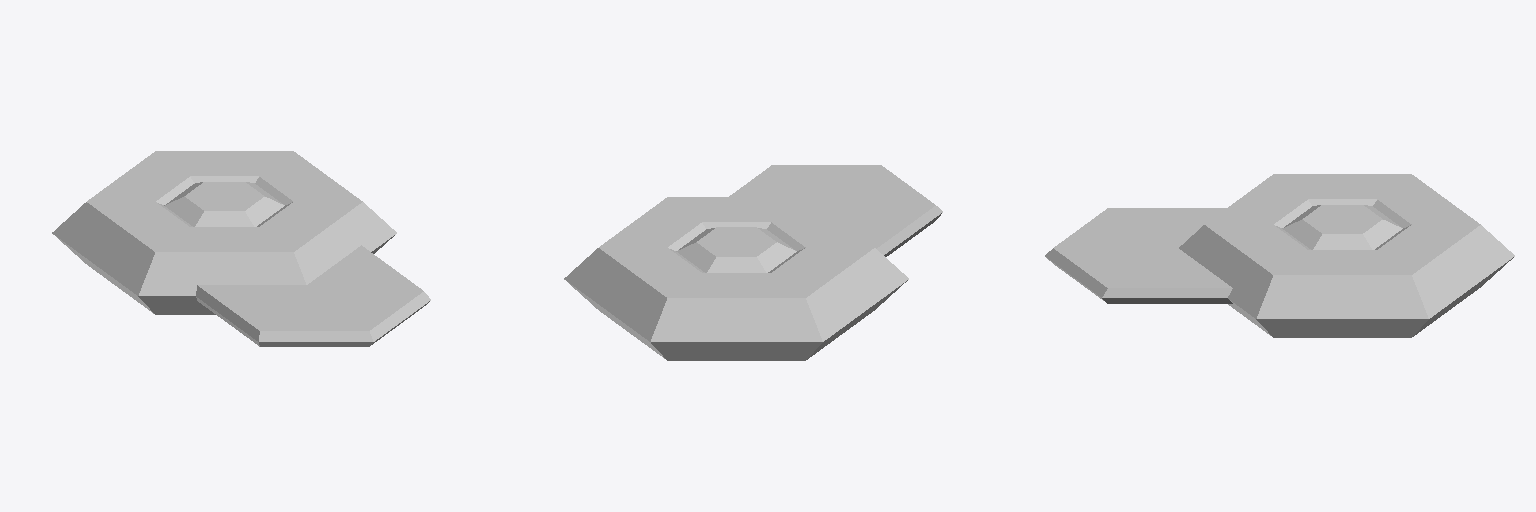
Rendered from medal-4.obj.
3 views of the same model, side by side, from view 1: azimuth 30°, elevation 25°; view 2: azimuth 150°, elevation 25°; view 3: azimuth 270°, elevation 25° (orthographic).
Visible parts, largest first — view 1: medal_Cylinder; view 2: medal_Cylinder; view 3: medal_Cylinder.
Part boxes in pixels (x1,y1,x2,y2): medal_Cylinder: (52,151,430,346); medal_Cylinder: (564,165,942,360); medal_Cylinder: (1045,174,1514,337).
Size of the model in its own units: 17.32 by 4.69 by 27.25.